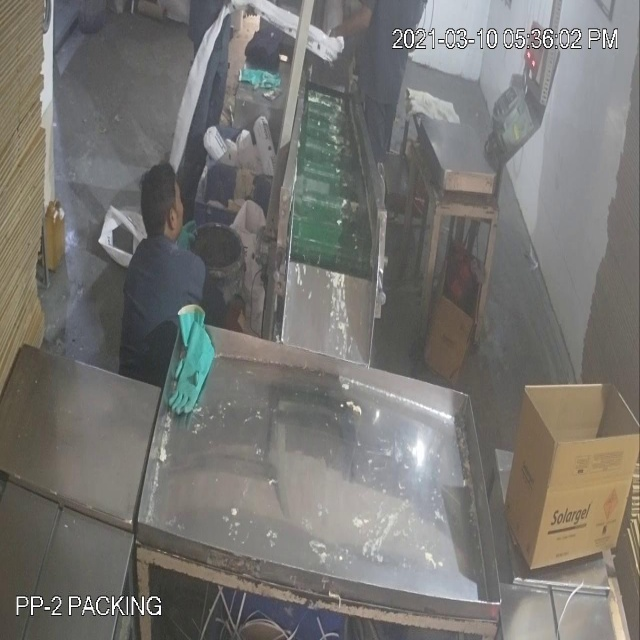Sin_guantes: (322, 1, 374, 53)
